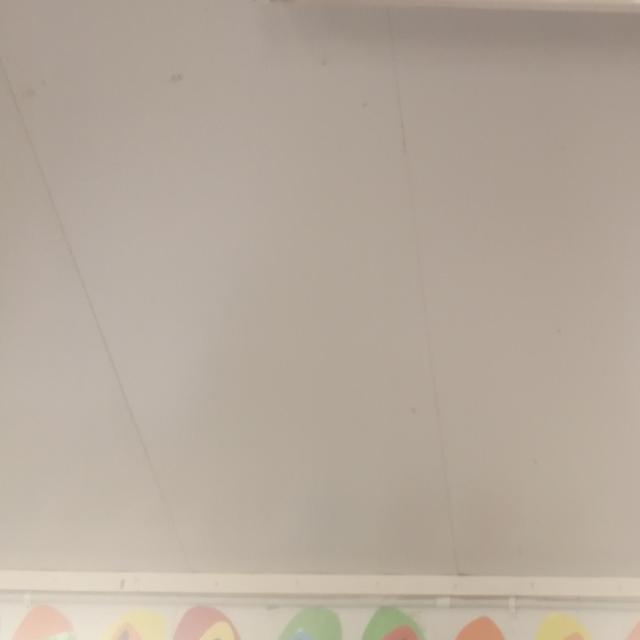fluorescent tube: (224, 0, 640, 85)
